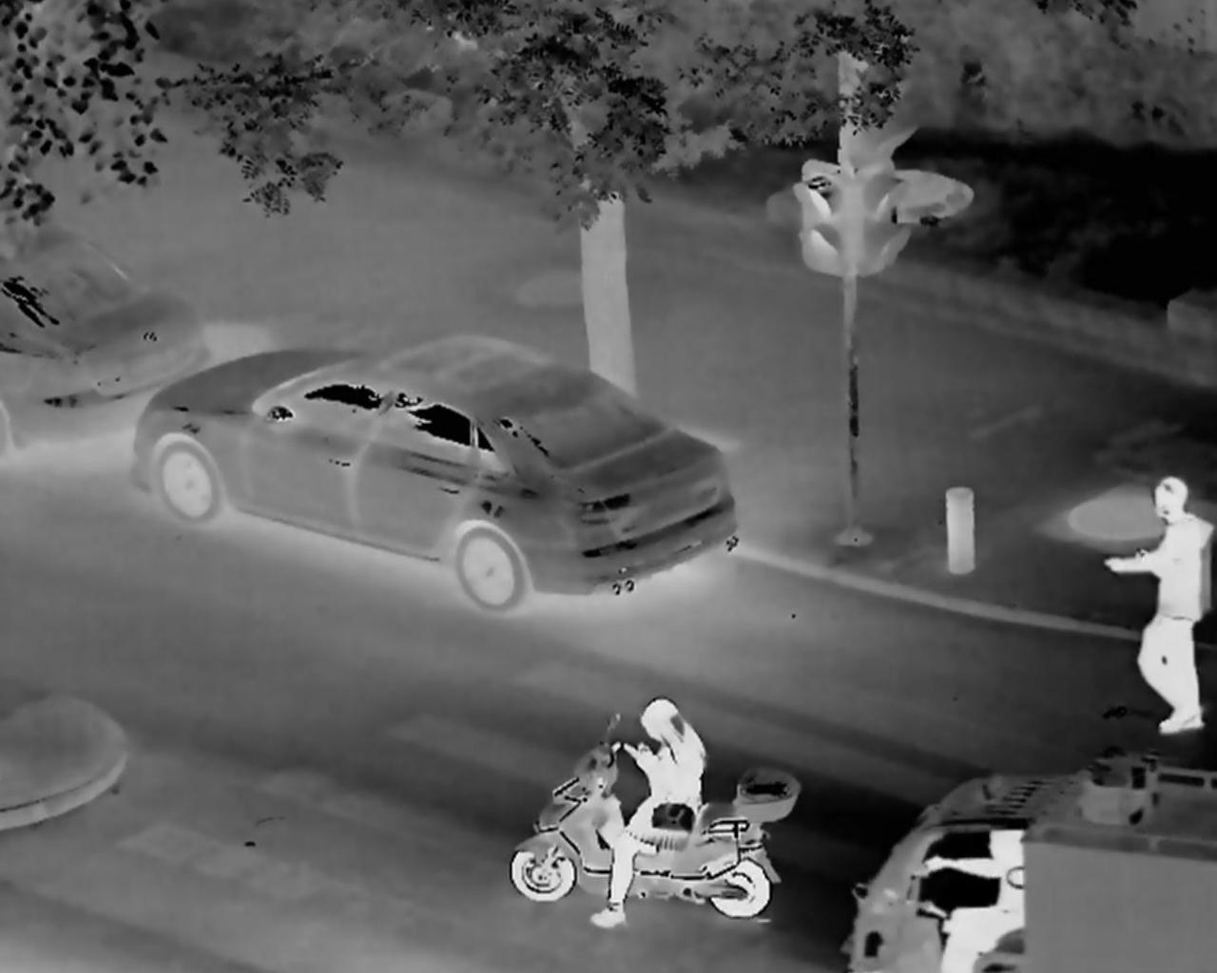person: (1097, 473, 1217, 751), (593, 694, 719, 938)
